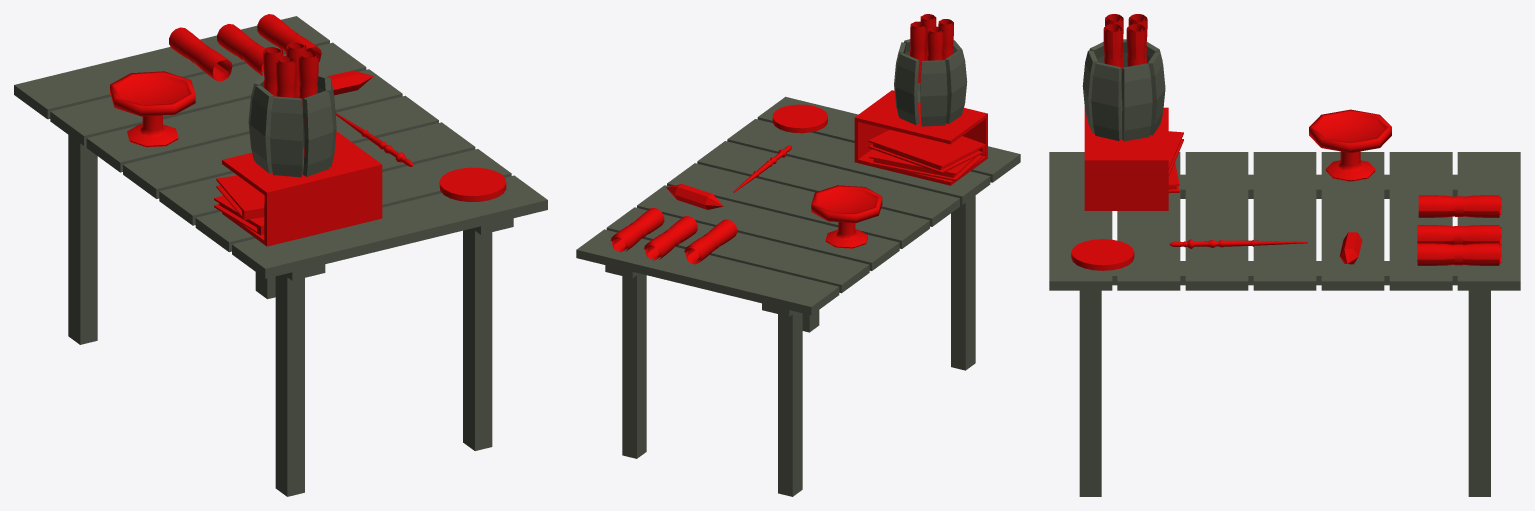
File: mesa3Encantamiento.fbx
3 renders of one model, left to right at view 1: azimuth 30°, elevation 25°; view 2: azimuth 150°, elevation 25°; view 3: azimuth 270°, elevation 25°, orthographic. The views are drawn at different scales.
Parts seen in each view (by area): view 1: pCube556, pCube500, polySurface5287, pCylinder548, polySurface5278, pCylinder550, pCylinder532, polySurface5216, pCylinder544, pCylinder547, pCone9, polySurface5211 (+1 smaller); view 2: pCube556, polySurface5287, pCube500, pCylinder548, polySurface5216, polySurface5278, pCylinder550, polySurface5211, pCylinder544, pCylinder547, pCylinder532, pCone9; view 3: pCube556, pCube500, polySurface5287, pCylinder548, polySurface5278, pCylinder547, pCylinder532, pCylinder550, pCylinder544, polySurface5292, pCone9.
Boxes of the visible parts, x1=… form: pCube556: x1=14, y1=16, x2=547, y2=496; pCube500: x1=222, y1=131, x2=382, y2=246; polySurface5287: x1=248, y1=73, x2=336, y2=177; pCylinder548: x1=110, y1=71, x2=195, y2=147; polySurface5278: x1=263, y1=42, x2=318, y2=124; pCylinder550: x1=439, y1=167, x2=506, y2=201; pCylinder532: x1=169, y1=27, x2=232, y2=81; polySurface5216: x1=216, y1=175, x2=264, y2=219; pCylinder544: x1=217, y1=24, x2=265, y2=75; pCylinder547: x1=257, y1=14, x2=321, y2=62; pCone9: x1=328, y1=70, x2=373, y2=95; polySurface5211: x1=214, y1=195, x2=264, y2=235; pCube556: x1=576, y1=96, x2=1020, y2=496; polySurface5287: x1=894, y1=39, x2=967, y2=126; pCube500: x1=854, y1=90, x2=987, y2=185; pCylinder548: x1=811, y1=185, x2=882, y2=248; polySurface5216: x1=868, y1=129, x2=985, y2=173; polySurface5278: x1=910, y1=14, x2=953, y2=82; pCylinder550: x1=772, y1=104, x2=827, y2=133; polySurface5211: x1=869, y1=150, x2=984, y2=181; pCylinder544: x1=644, y1=216, x2=697, y2=260; pCylinder547: x1=610, y1=208, x2=664, y2=252; pCylinder532: x1=684, y1=219, x2=737, y2=264; pCone9: x1=666, y1=184, x2=723, y2=209; pCube556: x1=1049, y1=152, x2=1520, y2=496; pCube500: x1=1084, y1=107, x2=1168, y2=210; polySurface5287: x1=1082, y1=39, x2=1165, y2=141; pCylinder548: x1=1309, y1=109, x2=1391, y2=181; polySurface5278: x1=1103, y1=14, x2=1147, y2=90; pCylinder547: x1=1417, y1=243, x2=1501, y2=265; pCylinder532: x1=1418, y1=195, x2=1501, y2=217; pCylinder550: x1=1071, y1=239, x2=1134, y2=270; pCylinder544: x1=1417, y1=225, x2=1501, y2=244; polySurface5292: x1=1169, y1=239, x2=1307, y2=248; pCone9: x1=1339, y1=232, x2=1362, y2=264.
Bounding box in the file's own units: 121 × 172 × 187.
